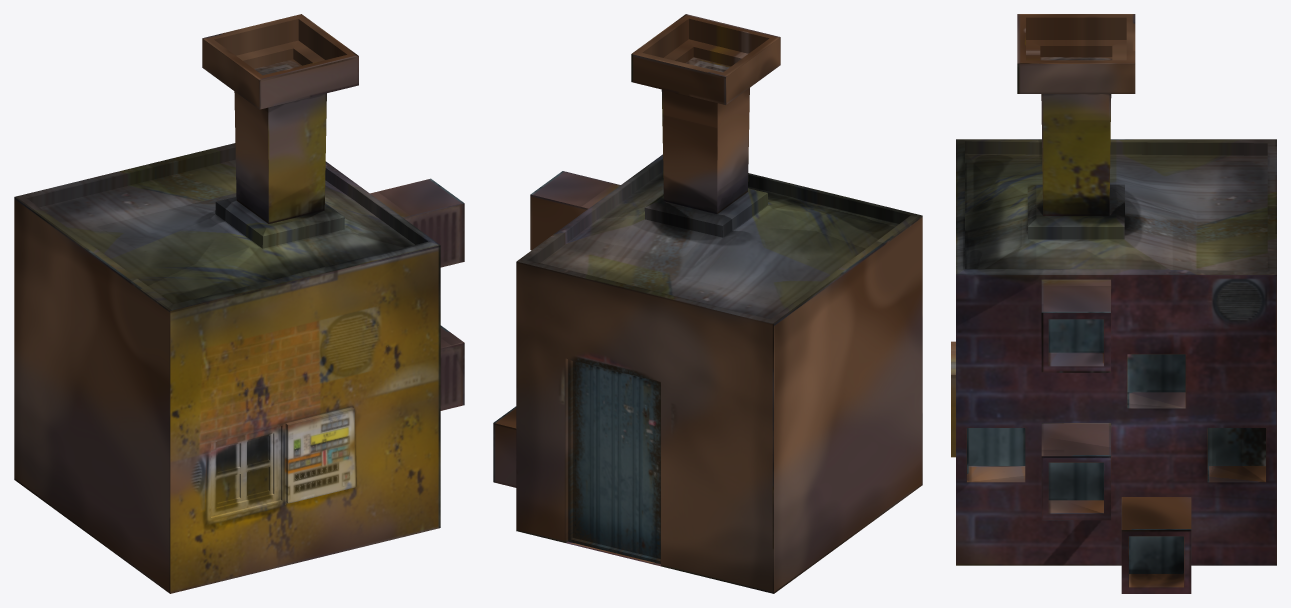
Rendered from building.glb.
3 renders of one model, left to right at view 1: azimuth 30°, elevation 25°; view 2: azimuth 150°, elevation 25°; view 3: azimuth 270°, elevation 25°, orthographic. The views are drawn at different scales.
Visible parts, largest first — view 1: Cube; view 2: Cube; view 3: Cube.
Boxes of the visible parts, x1,y1,x2,y2 form: Cube: [14, 14, 464, 593]; Cube: [493, 14, 922, 593]; Cube: [951, 14, 1276, 593].
Bounding box in the file's own units: 5.32 × 7 × 4.34.
Materials: 1 (1 with a texture image).
